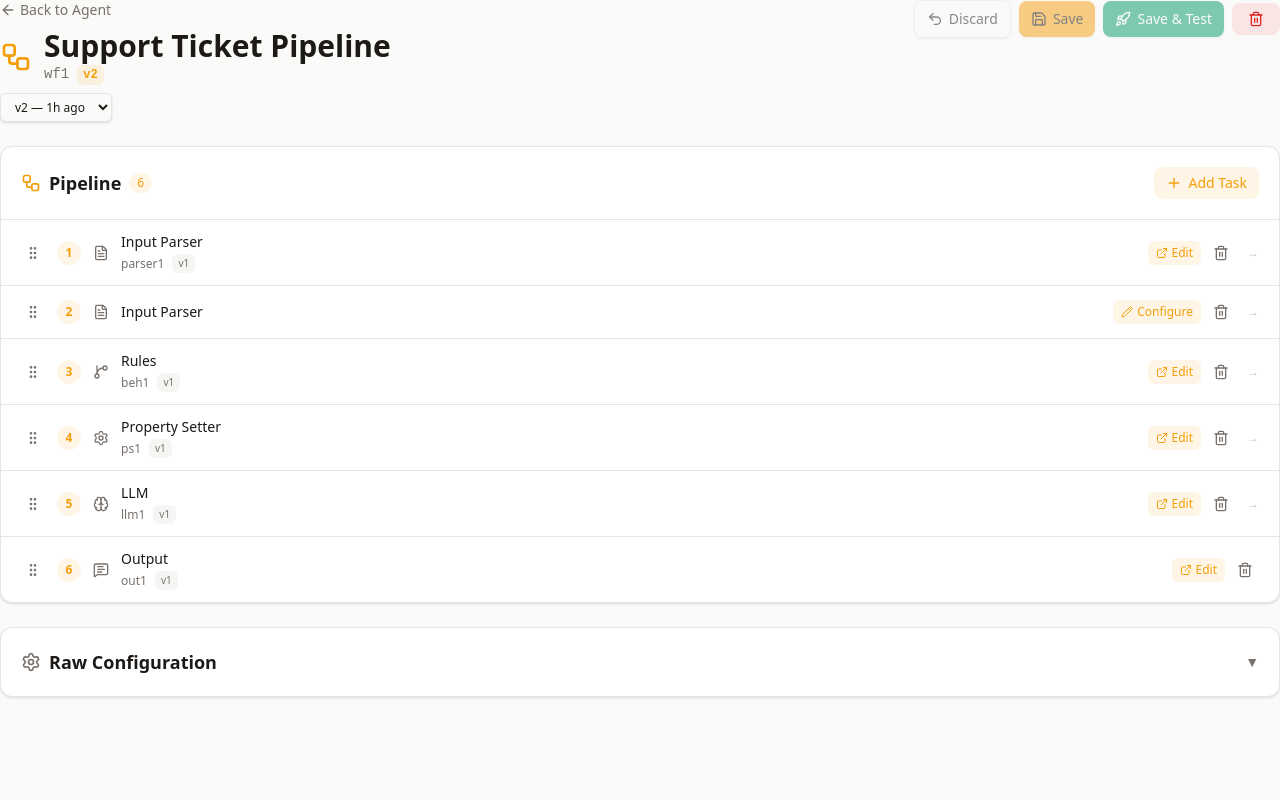
Test: Workflow Detail — Parser Inline Editing › opens parser dialog when Configure is clicked
Click the button with test id "configure-inline-1". click: (1157, 312)
box: [1113,300,1201,324]
(page scrolled)
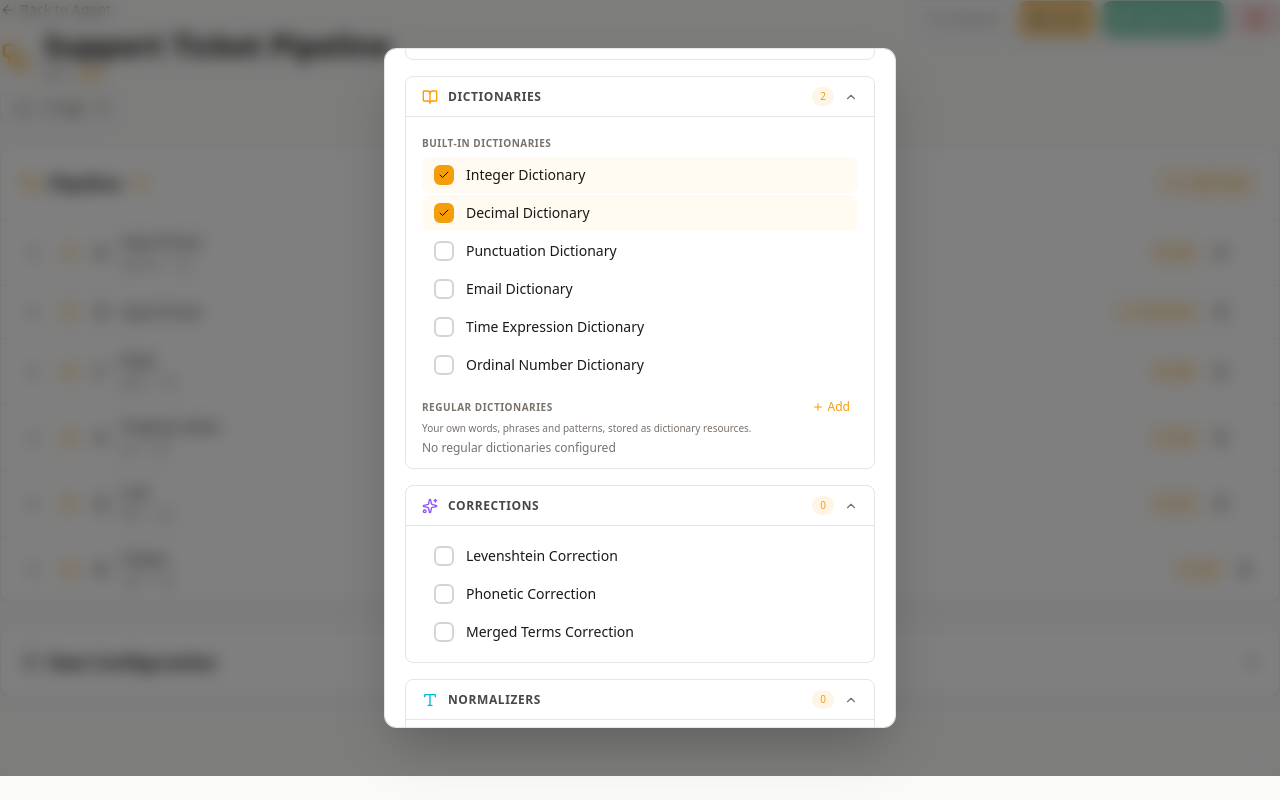
expect the element with test id "parser-edit-dialog" is shown: met
expect the element with test id "parser-editor" is shown: met, box [405,48,875,728]
